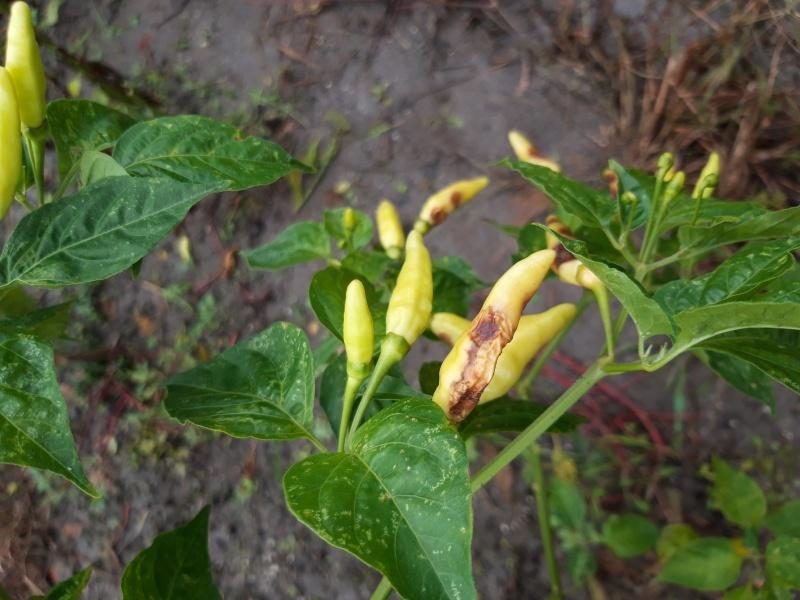antraknosa: (431, 248, 558, 424), (409, 174, 488, 240), (510, 130, 560, 172)
cabai_normal: (383, 229, 435, 352), (4, 1, 50, 131), (340, 275, 378, 380), (1, 66, 24, 222), (374, 198, 405, 254)
